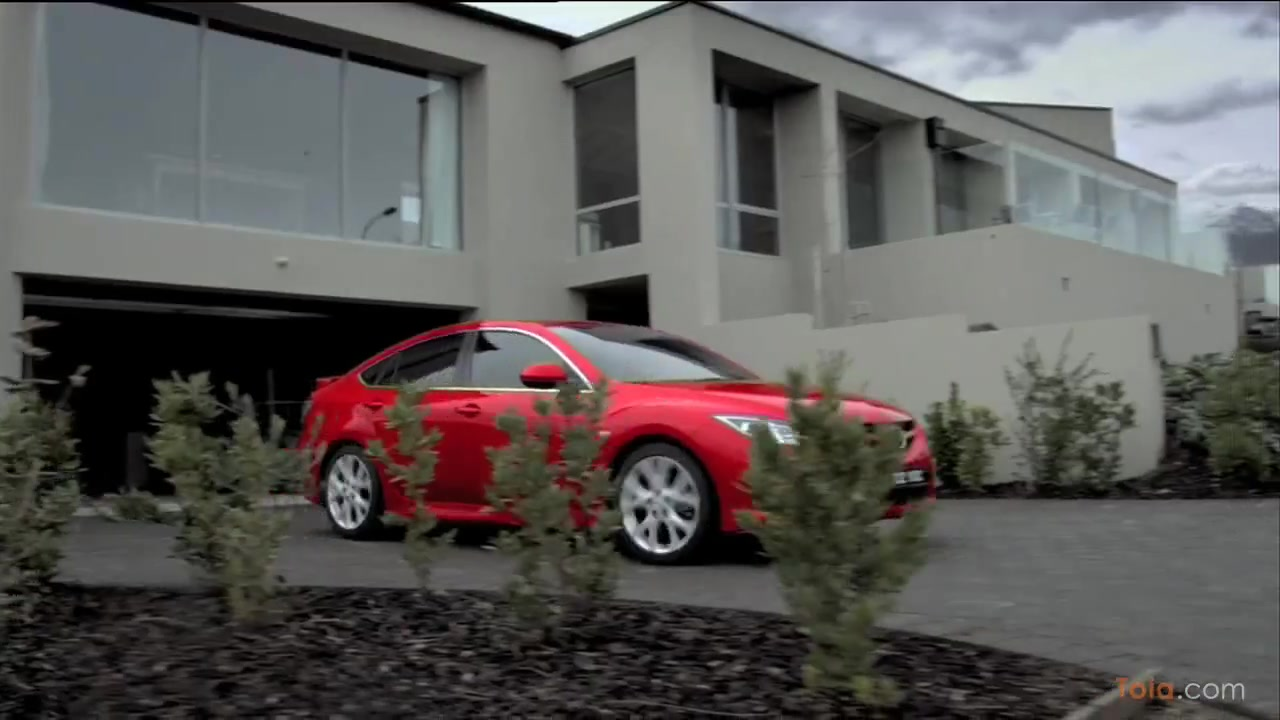car: (300, 314, 938, 563)
